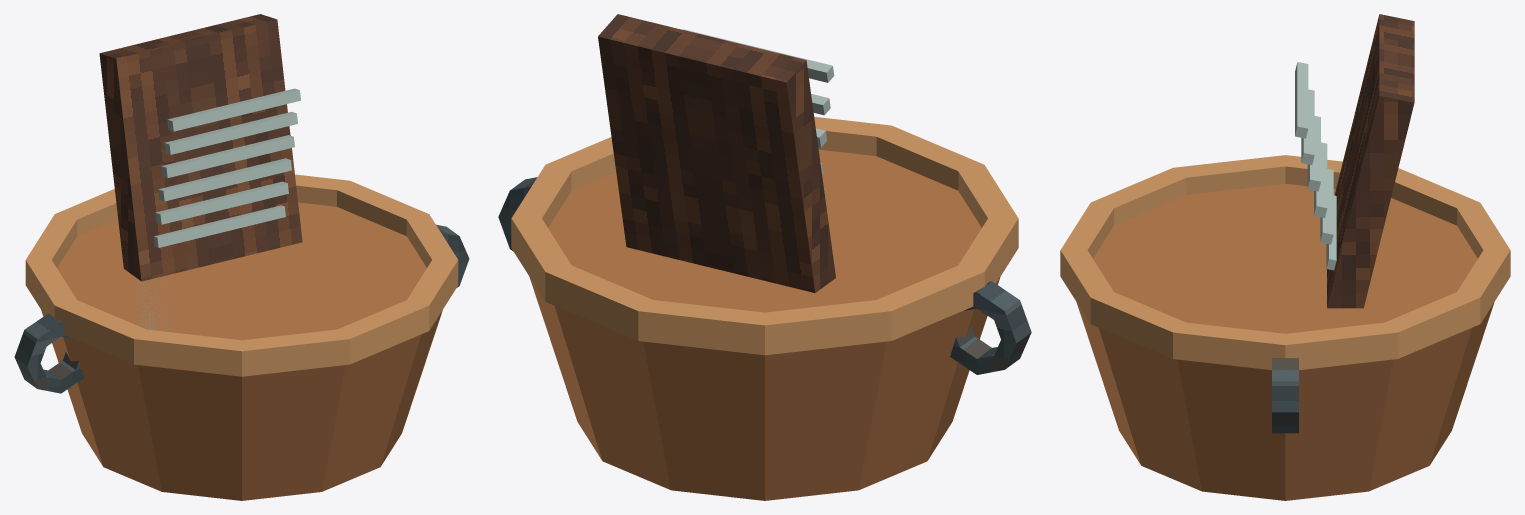
3 views of the same model, side by side, from view 1: azimuth 30°, elevation 25°; view 2: azimuth 150°, elevation 25°; view 3: azimuth 270°, elevation 25° (orthographic). The views are drawn at different scales.
Parts seen in each view (by area): view 1: body_copper, body_wood_dark, body_copper_light, body_silver, body_iron; view 2: body_copper, body_wood_dark, body_copper_light, body_iron, body_silver; view 3: body_copper, body_copper_light, body_wood_dark, body_silver, body_iron.
Part boxes in pixels (box(x1,y1,x2,y2)): body_copper: box(41, 202, 442, 500); body_wood_dark: box(99, 14, 302, 281); body_copper_light: box(25, 174, 458, 376); body_silver: box(153, 88, 300, 247); body_iron: box(14, 224, 469, 393); body_copper: box(529, 149, 1000, 500); body_wood_dark: box(598, 14, 835, 292); body_copper_light: box(511, 117, 1018, 355); body_iron: box(498, 177, 1031, 374); body_silver: box(683, 29, 834, 174); body_copper: box(1076, 184, 1494, 500); body_copper_light: box(1060, 155, 1510, 370); body_wood_dark: box(1327, 14, 1414, 308); body_silver: box(1295, 62, 1336, 270); body_iron: box(1272, 358, 1298, 433).
Size of the model in its own units: 1.18 by 0.9213 by 1.
6 materials, 2 textured.
